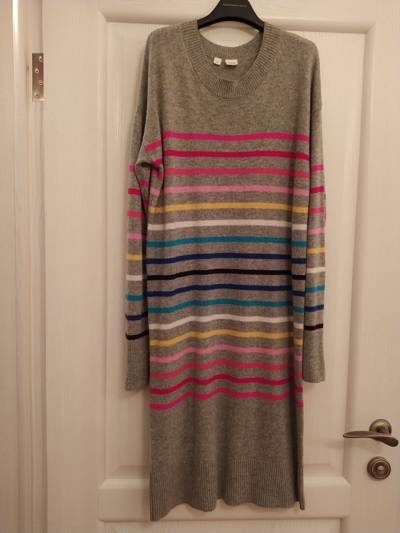Dress: (97, 19, 353, 517)
